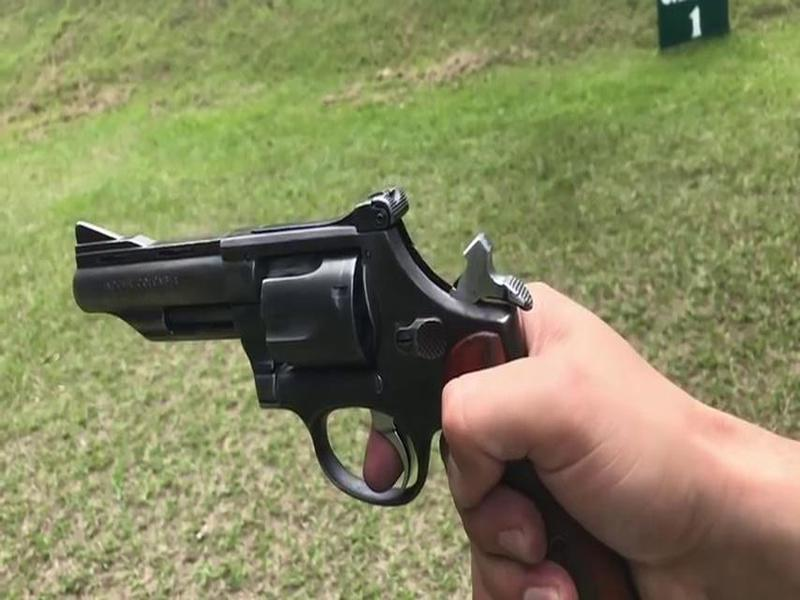Revolver: (54, 178, 540, 512)
